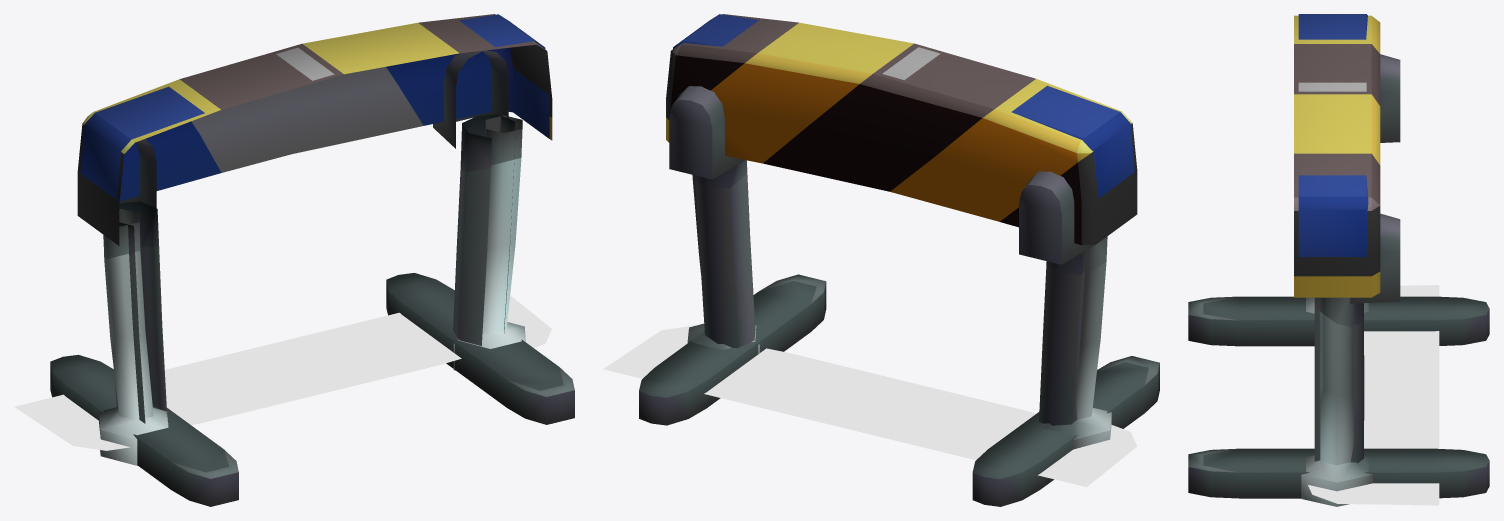
File: city_overUnder_roadworks.fbx
The picture shows the model from 3 angles, left to right: view 1: azimuth 30°, elevation 25°; view 2: azimuth 150°, elevation 25°; view 3: azimuth 270°, elevation 25°; orthographic projection. The views are drawn at different scales.
Visible parts, largest first — view 1: city_overUnder_roadworks_SummerSports, city_overUnder_roadworks, roadworksShadow; view 2: city_overUnder_roadworks, city_overUnder_roadworks_SummerSports, roadworksShadow; view 3: city_overUnder_roadworks_SummerSports, city_overUnder_roadworks, roadworksShadow.
Boxes of the visible parts, left/top/right/bottom form: city_overUnder_roadworks_SummerSports: left=50, top=14, right=574, bottom=506; city_overUnder_roadworks: left=77, top=14, right=552, bottom=465; roadworksShadow: left=14, top=295, right=551, bottom=450; city_overUnder_roadworks: left=666, top=14, right=1137, bottom=449; city_overUnder_roadworks_SummerSports: left=639, top=14, right=1159, bottom=506; roadworksShadow: left=603, top=325, right=1137, bottom=487; city_overUnder_roadworks_SummerSports: left=1188, top=14, right=1489, bottom=498; city_overUnder_roadworks: left=1294, top=15, right=1380, bottom=506; roadworksShadow: left=1308, top=285, right=1439, bottom=505.
Size of the model in its own units: 122 by 82.46 by 70.28.
